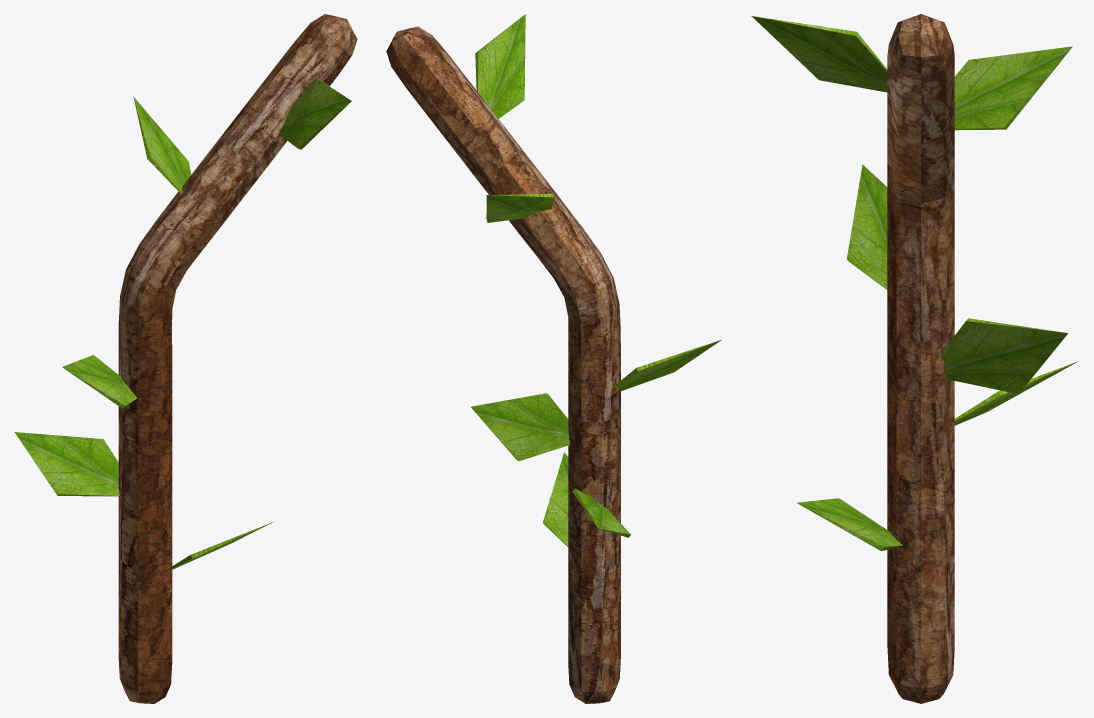
Rendered from obj_tree.obj.
3 views of the same model, side by side, from view 1: azimuth 30°, elevation 25°; view 2: azimuth 150°, elevation 25°; view 3: azimuth 270°, elevation 25° (orthographic). The views are drawn at different scales.
Visible parts, largest first — view 1: Plane; view 2: Plane; view 3: Plane.
Part boxes in pixels (x1=…): Plane: x1=14, y1=14, x2=357, y2=703; Plane: x1=386, y1=14, x2=721, y2=703; Plane: x1=751, y1=14, x2=1078, y2=703.
Size of the model in its own units: 0.309 by 0.6007 by 0.2237.
1 material, 1 textured.
